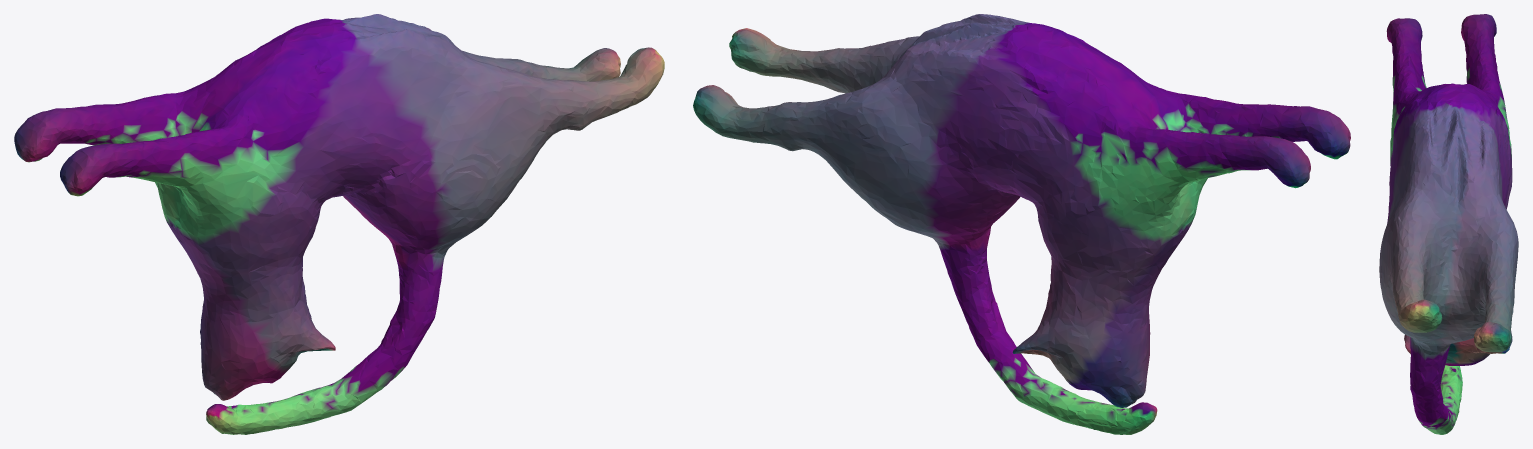
The model's file is cat-6.off.obj.
3 views of the same model, side by side, from view 1: azimuth 30°, elevation 25°; view 2: azimuth 150°, elevation 25°; view 3: azimuth 270°, elevation 25° (orthographic). The views are drawn at different scales.
Bounding box in the file's own units: 1.73 × 1.05 × 0.3932.
